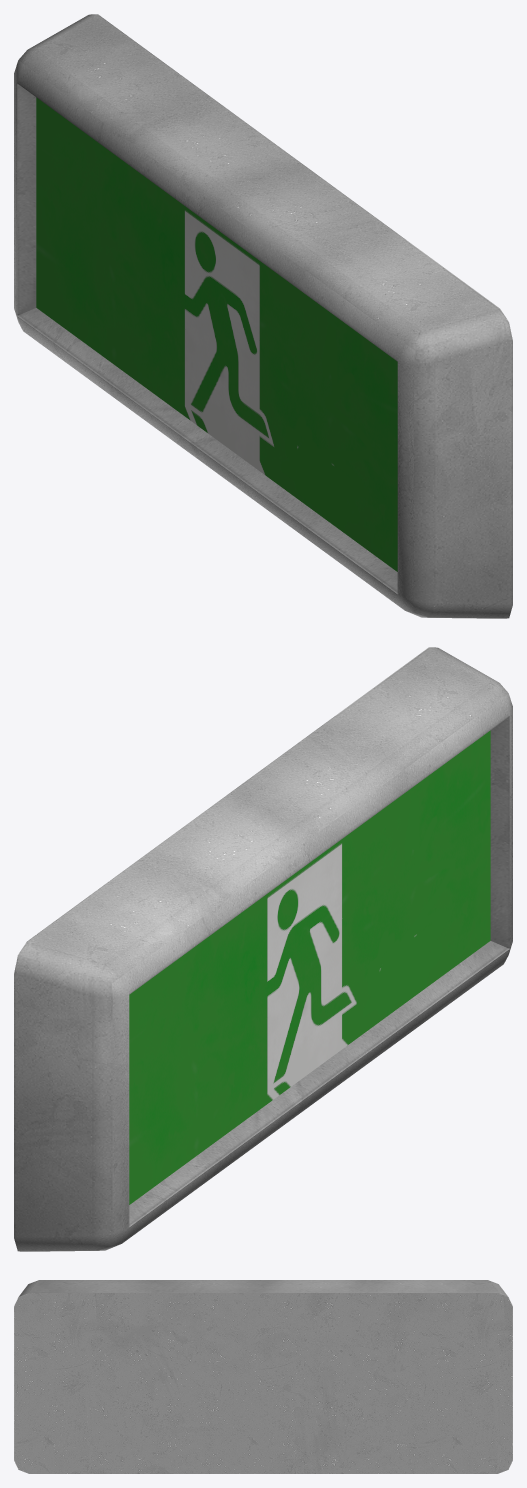
Rendered from SM_ExitSign_01.fbx.
The picture shows the model from 3 angles, top to bottom: view 1: azimuth 30°, elevation 25°; view 2: azimuth 150°, elevation 25°; view 3: azimuth 270°, elevation 25°; orthographic projection. The views are drawn at different scales.
Visible parts, largest first — view 1: SM_ExitSign_01_LOD0; view 2: SM_ExitSign_01_LOD0; view 3: SM_ExitSign_01_LOD0.
Part boxes in pixels (x1,y1,x2,y2): SM_ExitSign_01_LOD0: (14, 14, 512, 618); SM_ExitSign_01_LOD0: (14, 647, 512, 1251); SM_ExitSign_01_LOD0: (14, 1280, 512, 1473).
Size of the model in its own units: 6.18 by 50 by 20.
Materials: 1 (1 with a texture image).
